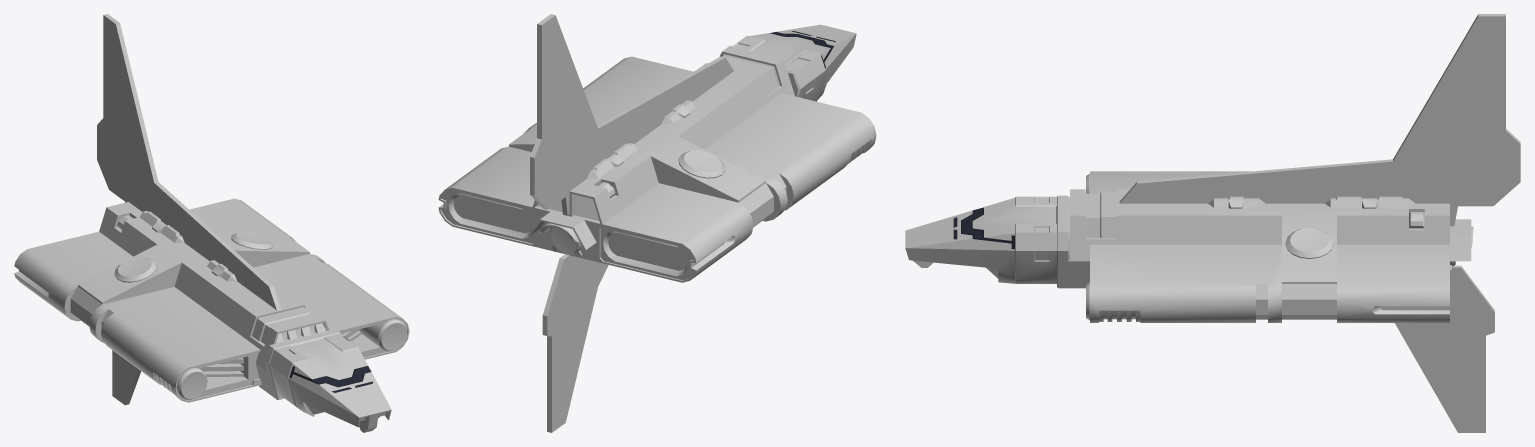
File: imperial_gunboat_l0.fbx
The picture shows the model from 3 angles, left to right: view 1: azimuth 30°, elevation 25°; view 2: azimuth 150°, elevation 25°; view 3: azimuth 270°, elevation 25°; orthographic projection. The views are drawn at different scales.
Visible parts, largest first — view 1: mesh_node; view 2: mesh_node; view 3: mesh_node.
Boxes of the visible parts, box(x1,y1,x2,y2) form: mesh_node: box(14, 14, 409, 432); mesh_node: box(438, 14, 876, 432); mesh_node: box(905, 14, 1520, 432).
Size of the model in its own units: 44.97 by 68.7 by 91.96.
